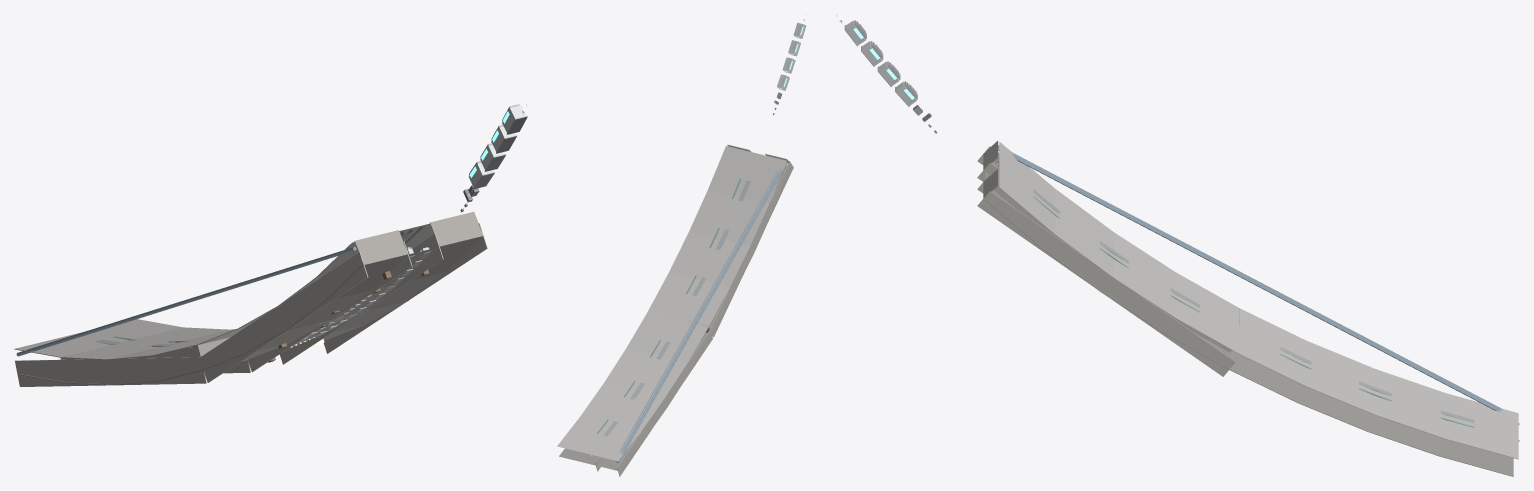
Rendered from xuanshu_interior_C18.glb.
The picture shows the model from 3 angles, left to right: view 1: azimuth 30°, elevation 25°; view 2: azimuth 150°, elevation 25°; view 3: azimuth 270°, elevation 25°; orthographic projection. The views are drawn at different scales.
Parts seen in each view (by area): view 1: UNIT-MED-003_S48859; view 2: UNIT-MED-003_S48859; view 3: UNIT-MED-003_S48859.
Part boxes in pixels (x1,y1,x2,y2): UNIT-MED-003_S48859: [14, 104, 527, 386]; UNIT-MED-003_S48859: [557, 19, 806, 476]; UNIT-MED-003_S48859: [836, 14, 1519, 476].
Size of the model in its own units: 17.31 by 79.49 by 109.
